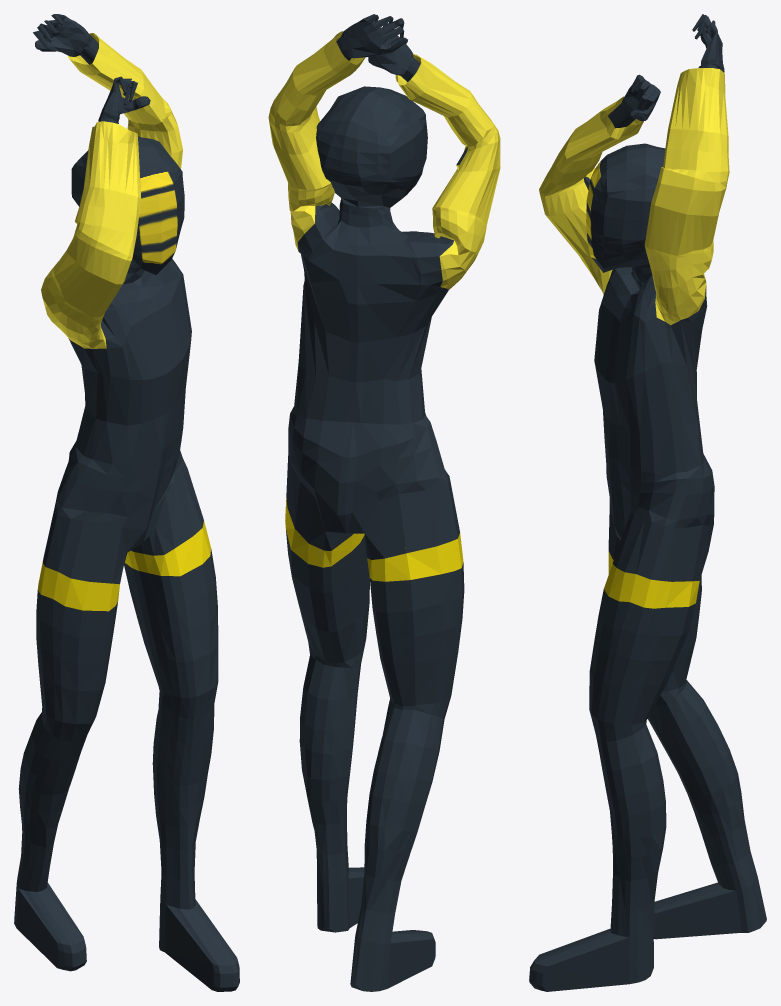
The model's file is Sentry_Attack_000014.obj.
3 views of the same model, side by side, from view 1: azimuth 30°, elevation 25°; view 2: azimuth 150°, elevation 25°; view 3: azimuth 270°, elevation 25° (orthographic). The views are drawn at different scales.
Visible parts, largest first — view 1: Cube; view 2: Cube; view 3: Cube.
Boxes of the visible parts, box(x1,y1,x2,y2) form: Cube: box(14, 14, 239, 991); Cube: box(268, 14, 500, 991); Cube: box(529, 14, 766, 991).
Size of the model in its own units: 0.8596 by 4.46 by 1.04.
